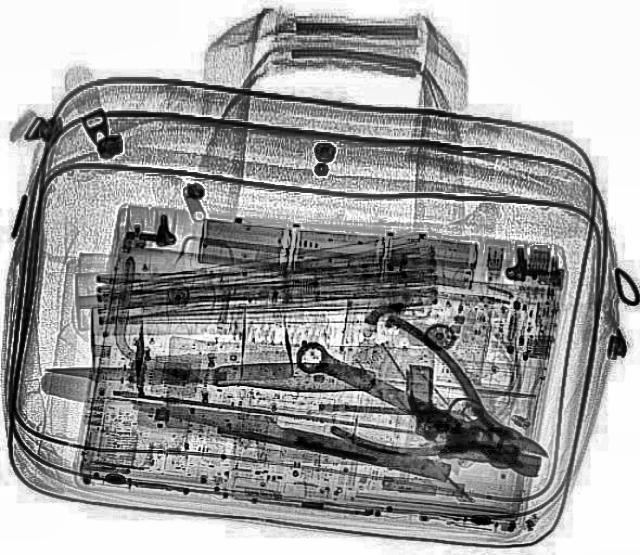Gun: (384, 361, 542, 463)
Knife: (134, 389, 456, 480), (42, 352, 374, 395)
Pliers: (308, 310, 564, 503)
Wrench: (282, 334, 556, 482)
